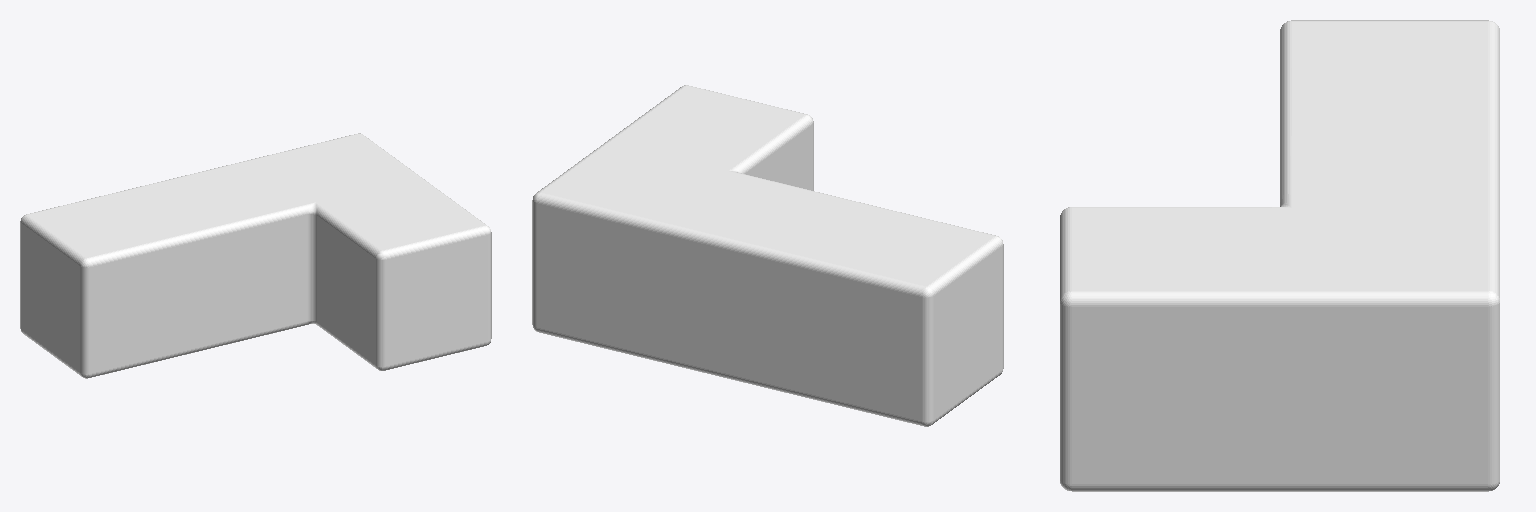
robot.urdf — cube2:
<robot name="cube2">
	<link name="baseLink">
    	<contact>
      		<lateral_friction value="0.5" />
      		<rolling_friction value="0.0" />
      		<contact_cfm value="0.0" />
      		<contact_erp value="1.0" />
    	</contact>
		<visual>
			<origin rpy="0.0 0.0 0.0" xyz="0.2849426763440433 -0.4550573704283231 -0.08999999002917582" />
			<geometry>
				<mesh filename="cubes/cube2.obj" scale="0.01 0.01 0.01" />
			</geometry>
			<material name="texture">
				<color rgba="1.0 1.0 1.0 1.0" />
			</material>
		</visual>
		<collision>
			<origin rpy="0.0 0.0 0.0" xyz="0.2849426763440433 -0.4550573704283231 -0.08999999002917582" />
			<geometry>
				<mesh filename="cubes/cube2_vhacd.obj" scale="0.01 0.01 0.01" />
			</geometry>
		</collision>
		<inertial>
			<origin rpy="0 0 0" xyz="0 0 0" />
			<mass value="0.5" />
			<inertia ixx="0.01" ixy="0.0" ixz="0.0" iyy="0.01" iyz="0.0" izz="0.01" />
		</inertial>
	</link>
</robot>

--- Facts derived from the render (not from the file) ---
Views: 3 orthographic renders of the robot side by side, from view 1: azimuth 30°, elevation 25°; view 2: azimuth 150°, elevation 25°; view 3: azimuth 270°, elevation 25°.
Robot: cube2 — 1 links, 0 joints (none); root link baseLink; default pose: all joints at 0.
Links seen in each view (by area): view 1: baseLink; view 2: baseLink; view 3: baseLink.
Link boxes in pixels (bbox=[...]): baseLink: bbox=[20, 133, 491, 378]; baseLink: bbox=[532, 85, 1003, 426]; baseLink: bbox=[1060, 20, 1499, 491].
Size in the robot's own frame: 0.54 by 0.36 by 0.18 metres.
Meshes: 1 distinct files referenced, 1 mesh visuals loaded (1 OBJ).